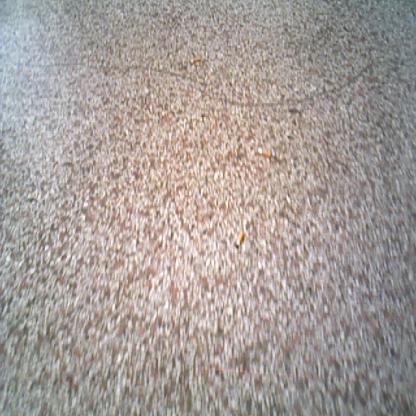dirty: (233, 227, 245, 250), (256, 146, 272, 158), (188, 56, 201, 64)
